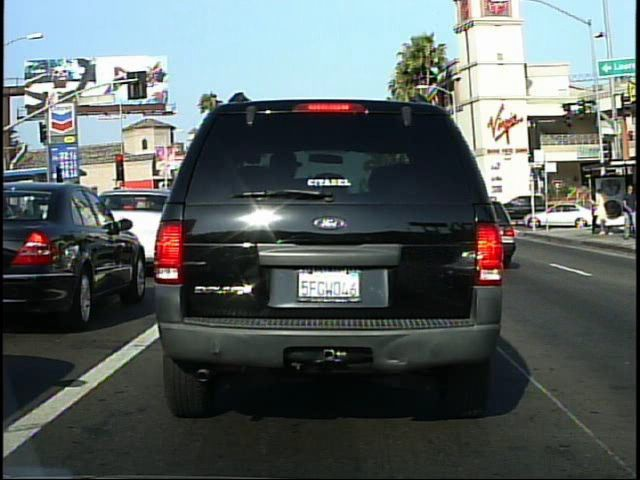person: (619, 179, 636, 243), (592, 183, 611, 240), (522, 201, 535, 227)
